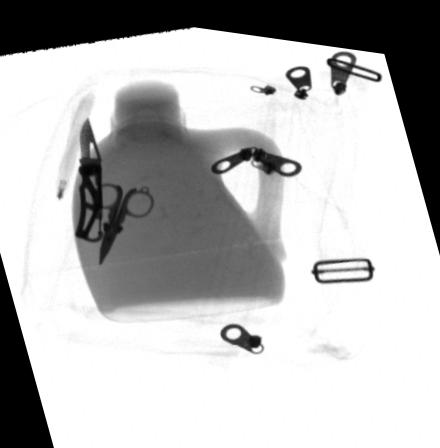Knife: (73, 112, 103, 239)
Scissors: (90, 178, 154, 262)
